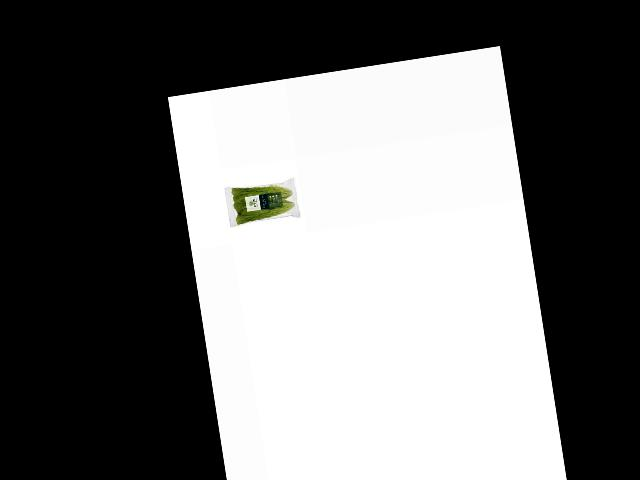lettuce: (228, 178, 297, 230)
